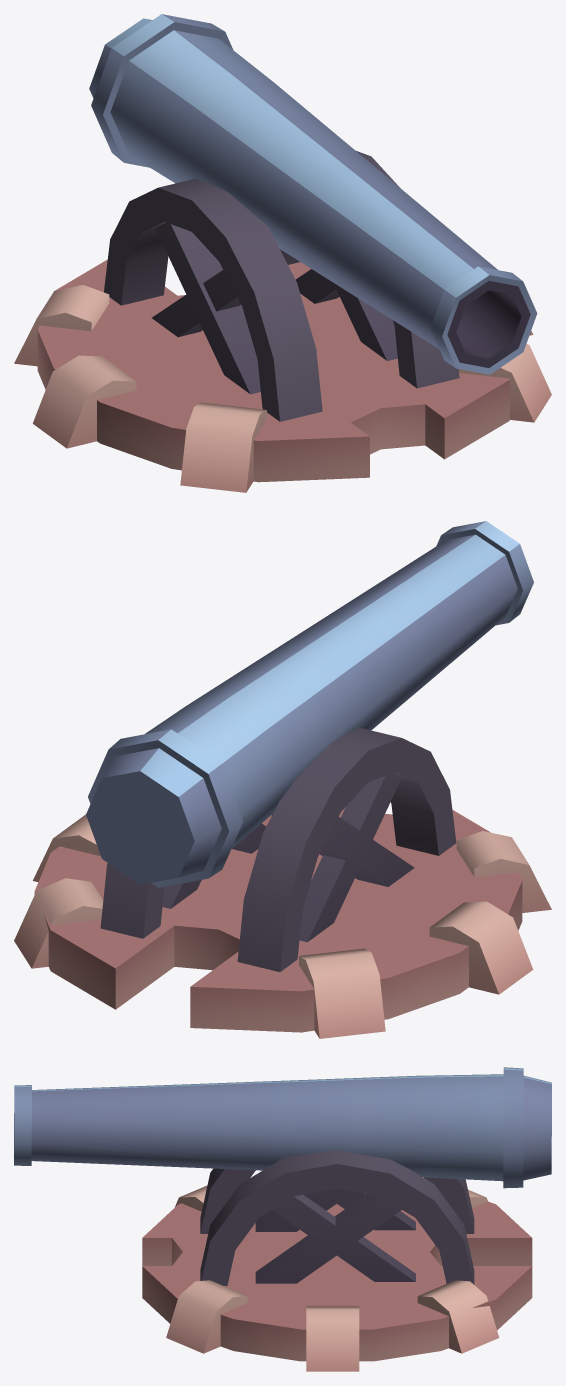
Rendered from Cannon.fbx.
3 renders of one model, top to bottom at view 1: azimuth 30°, elevation 25°; view 2: azimuth 150°, elevation 25°; view 3: azimuth 270°, elevation 25°, orthographic. The views are drawn at different scales.
Visible parts, largest first — view 1: Cube.007; view 2: Cube.007; view 3: Cube.007.
Boxes of the visible parts, box(x1,y1,x2,y2) form: Cube.007: box(14, 14, 551, 492); Cube.007: box(14, 521, 551, 1038); Cube.007: box(14, 1067, 551, 1371).
Size of the model in its own units: 117 by 66.15 by 150.
